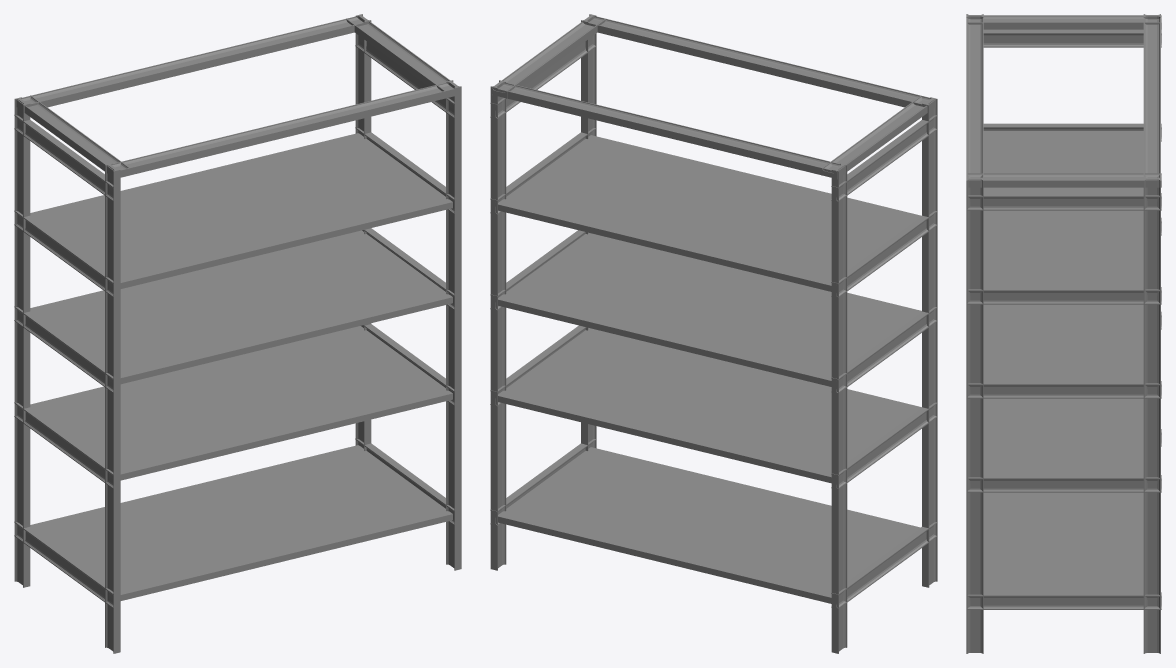
File: SM_shelf_01.fbx
3 renders of one model, left to right at view 1: azimuth 30°, elevation 25°; view 2: azimuth 150°, elevation 25°; view 3: azimuth 270°, elevation 25°, orthographic.
Visible parts, largest first — view 1: shelf_01; view 2: shelf_01; view 3: shelf_01.
Boxes of the visible parts, box(x1,y1,x2,y2) form: shelf_01: box(14, 14, 461, 653); shelf_01: box(490, 14, 937, 653); shelf_01: box(966, 14, 1161, 653).
Bounding box in the file's own units: 204 × 270 × 101.
